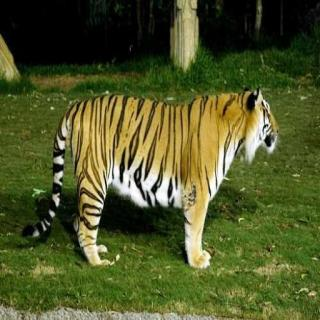Tiger: (21, 69, 297, 272)
